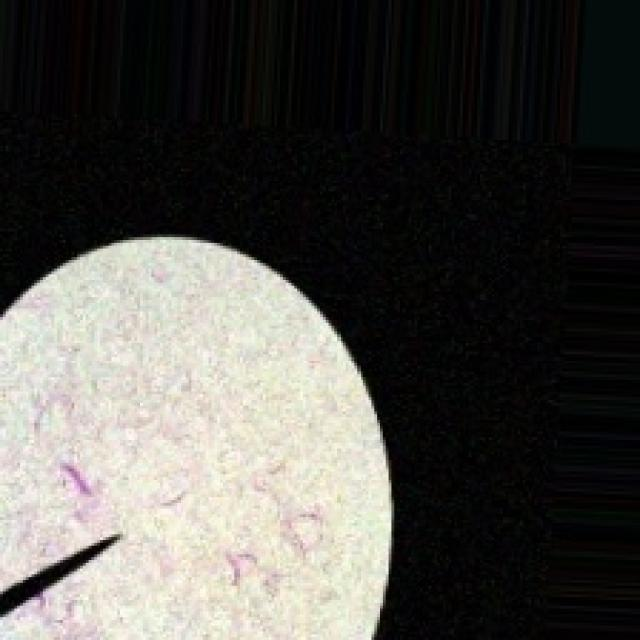Spiral_bacteria: (0, 231, 394, 637)
